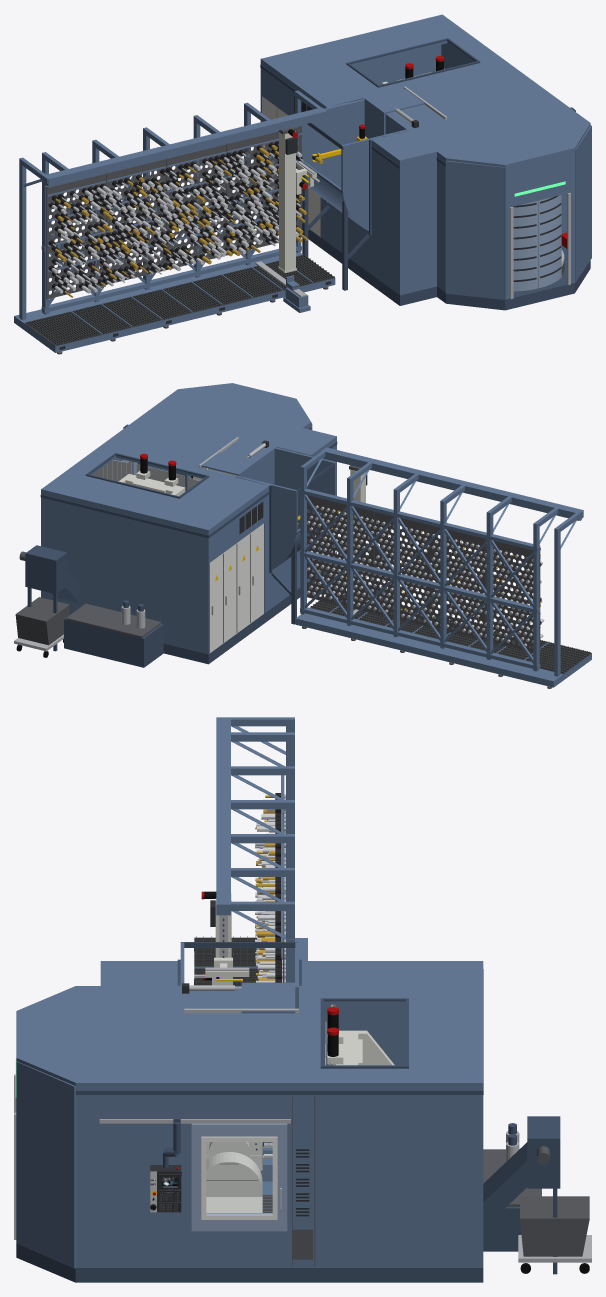
File: hmc_x1200_5ax_blue_right_sidemag.glb
3 views of the same model, one above another, from view 1: azimuth 30°, elevation 25°; view 2: azimuth 150°, elevation 25°; view 3: azimuth 270°, elevation 25° (orthographic). The views are drawn at different scales.
Parts seen in each view (by area): view 1: enclosure__fms_blue, apc_housing__fms_blue, twm_frame__fms_blue, twm_tools__holder, twm_frame__anthracite_lt, twm_tools__tool_bright, twm_base__grating, tc_box__fms_blue, twm_base__fms_blue, enclosure__fms_blue_dk, twm_tools__tool_gold, mag_loader__struct_grey (+9 smaller); view 2: enclosure__fms_blue, twm_frame__fms_blue, twm_frame__anthracite_lt, chip_coolant__fms_blue_dk, electrical_cabinet__hmc_white, twm_tools__steel, twm_base__fms_blue, tc_box__fms_blue, enclosure__fms_blue_dk, apc_housing__fms_blue, twm_base__grating, chip_cart__steel_dark (+7 smaller); view 3: enclosure__fms_blue, apc_housing__fms_blue, twm_frame__fms_blue, enclosure__fms_blue_dk, chip_coolant__fms_blue_dk, operator_door__glass_clear, operator_door__door_blue, chip_cart__steel_dark, table__struct_grey, twm_tools__tool_bright, operator_door__hmc_white, enclosure__steel (+10 smaller).
Part boxes in pixels (x1,y1,x2,y2): enclosure__fms_blue: (260,14,580,295); apc_housing__fms_blue: (437,116,591,299); twm_frame__fms_blue: (19,90,327,320); twm_tools__holder: (48,141,302,294); twm_frame__anthracite_lt: (46,126,301,299); twm_tools__tool_bright: (51,144,303,293); twm_base__grating: (25,254,334,346); tc_box__fms_blue: (302,99,407,230); twm_base__fms_blue: (14,252,335,352); enclosure__fms_blue_dk: (260,38,480,305); twm_tools__tool_gold: (55,145,308,297); mag_loader__struct_grey: (278,131,296,273); enclosure__fms_blue: (41,395,336,654); twm_frame__fms_blue: (300,447,583,676); twm_frame__anthracite_lt: (307,495,540,653); chip_coolant__fms_blue_dk: (25,545,163,667); electrical_cabinet__hmc_white: (210,523,263,652); twm_tools__steel: (306,505,533,646); twm_base__fms_blue: (295,600,591,687); tc_box__fms_blue: (236,447,336,569); enclosure__fms_blue_dk: (40,442,337,664); apc_housing__fms_blue: (170,383,312,477); twm_base__grating: (310,593,591,673); chip_cart__steel_dark: (15,597,69,645); enclosure__fms_blue: (100,961,483,1267); apc_housing__fms_blue: (16,986,100,1268); twm_frame__fms_blue: (216,717,294,982); enclosure__fms_blue_dk: (100,959,483,1282); chip_coolant__fms_blue_dk: (483,1116,560,1274); operator_door__glass_clear: (207,1142,271,1213); operator_door__door_blue: (191,1123,287,1231); chip_cart__steel_dark: (520,1196,589,1256); table__struct_grey: (206,1142,262,1212); twm_tools__tool_bright: (255,799,275,982); operator_door__hmc_white: (201,1136,277,1219); enclosure__steel: (99,985,298,1123).
Bounding box in the file's own units: 11.17 × 3.54 × 7.86.
23 materials, 2 textured.
